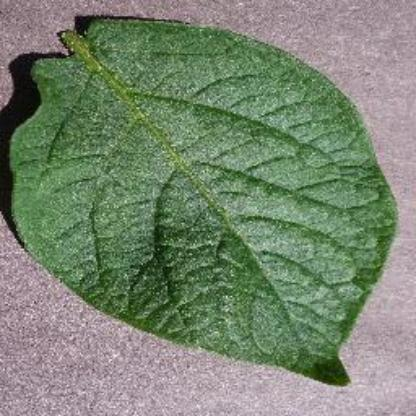Healthy-plant: (6, 15, 398, 391)
